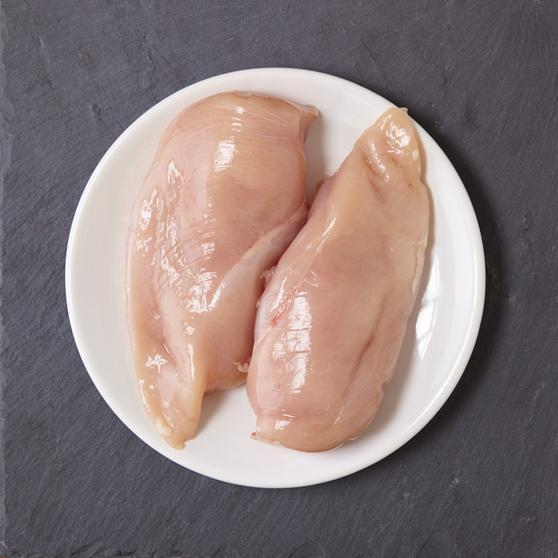chicken_fillet: (122, 86, 319, 451), (248, 98, 432, 462)
